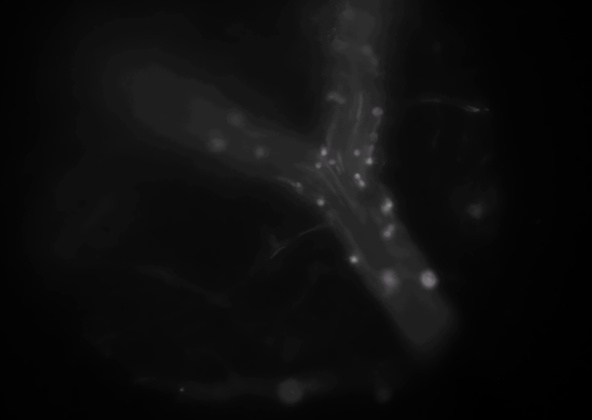cell: (422, 272, 436, 286), (370, 105, 384, 119), (350, 145, 364, 159), (364, 155, 378, 169), (315, 144, 329, 158), (312, 159, 326, 173), (327, 156, 341, 170), (325, 89, 339, 103), (350, 169, 364, 183), (332, 90, 346, 104), (355, 176, 369, 190), (346, 253, 360, 267), (382, 271, 396, 285), (380, 226, 394, 240), (382, 197, 396, 211), (384, 220, 398, 234), (377, 201, 391, 215), (314, 197, 328, 211), (290, 176, 304, 190), (253, 143, 267, 157), (209, 138, 223, 152), (360, 44, 374, 58), (367, 53, 381, 67), (331, 40, 345, 54), (367, 130, 381, 144), (364, 143, 378, 157)
